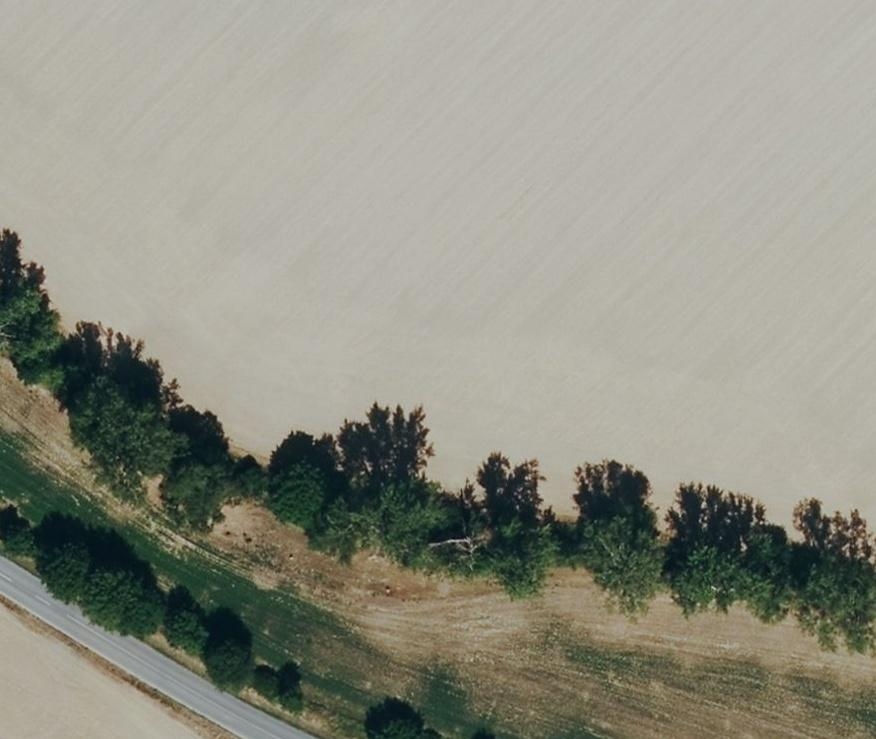field: (0, 3, 876, 528), (0, 360, 876, 737), (0, 608, 229, 737)
forest: (0, 231, 664, 613), (0, 506, 253, 689), (669, 522, 876, 648)
